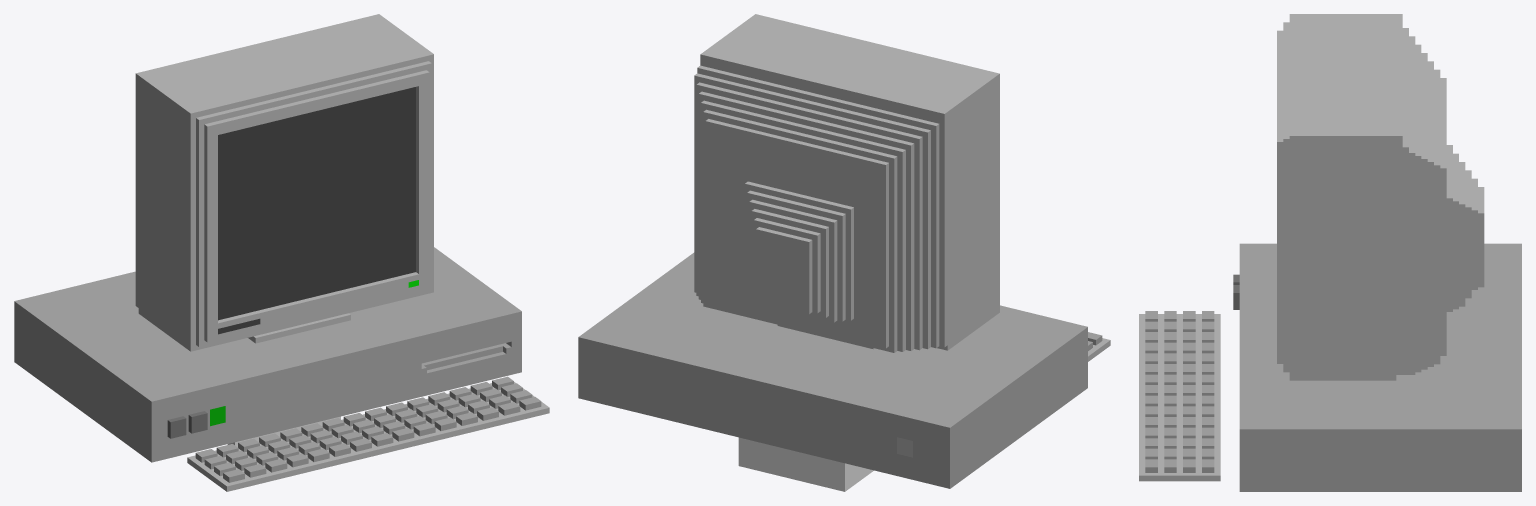
3 views of the same model, side by side, from view 1: azimuth 30°, elevation 25°; view 2: azimuth 150°, elevation 25°; view 3: azimuth 270°, elevation 25° (orthographic). The views are drawn at different scales.
Visible parts, largest first — view 1: pc; view 2: pc, Cube; view 3: pc.
Boxes of the visible parts, x1=… form: pc: x1=14, y1=14, x2=549, y2=491; pc: x1=578, y1=14, x2=1110, y2=488; Cube: x1=738, y1=437, x2=873, y2=491; pc: x1=1139, y1=14, x2=1521, y2=491.
Size of the model in its own units: 7 by 6.7 by 6.1.
2 materials, 1 textured.
